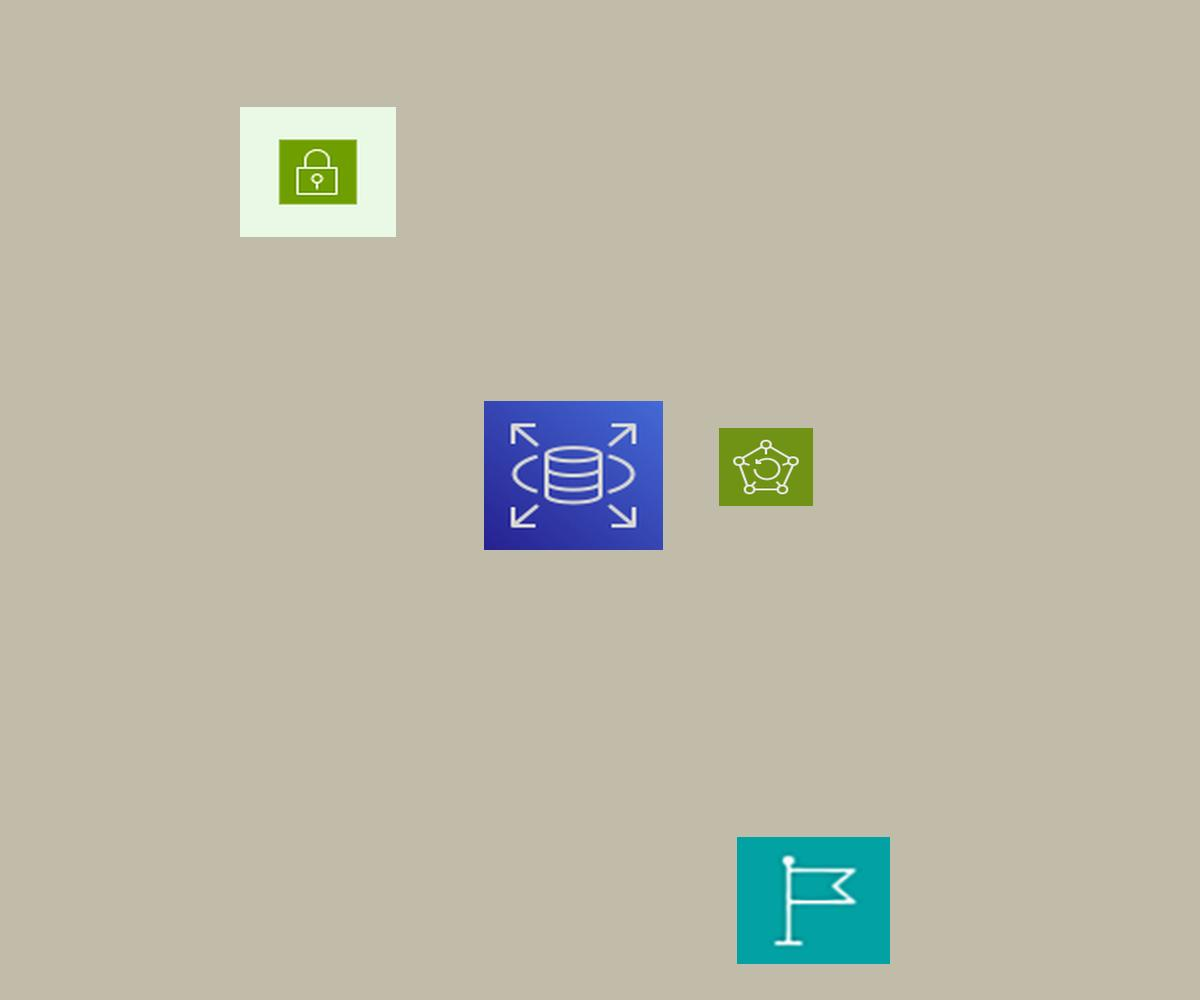AWS-Backup: (719, 428, 813, 506)
AWS-Public-subnet: (240, 107, 396, 237)
AWS-RDS: (484, 401, 663, 550)
AWS-Region: (737, 837, 890, 964)
